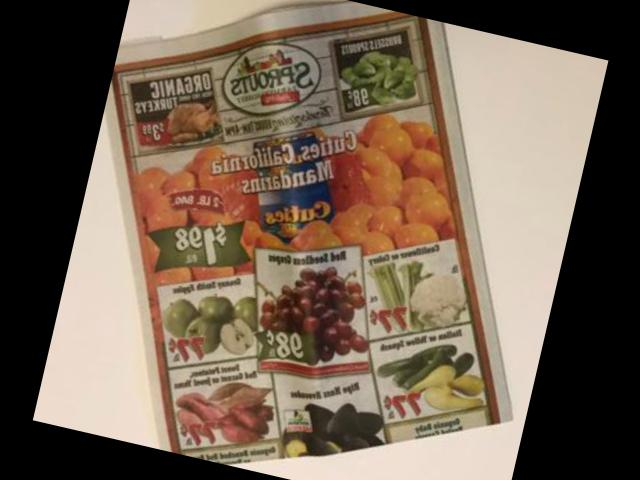cardboard paper: (111, 2, 512, 465)
